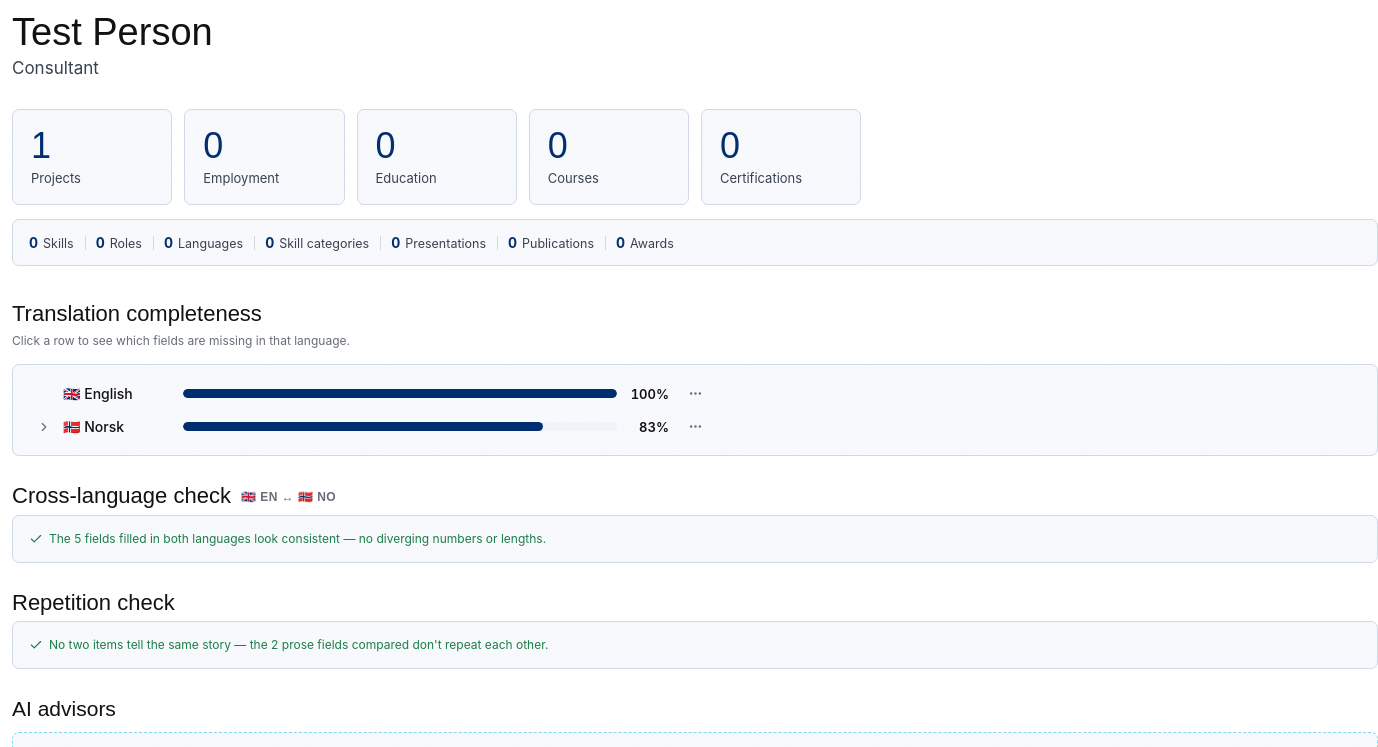
Test: <Overview> translation completeness drill-down › toggles closed on a second click
Click the button "🇳🇴 Norsk 83%". click: (353, 427)
box: [29,412,677,442]
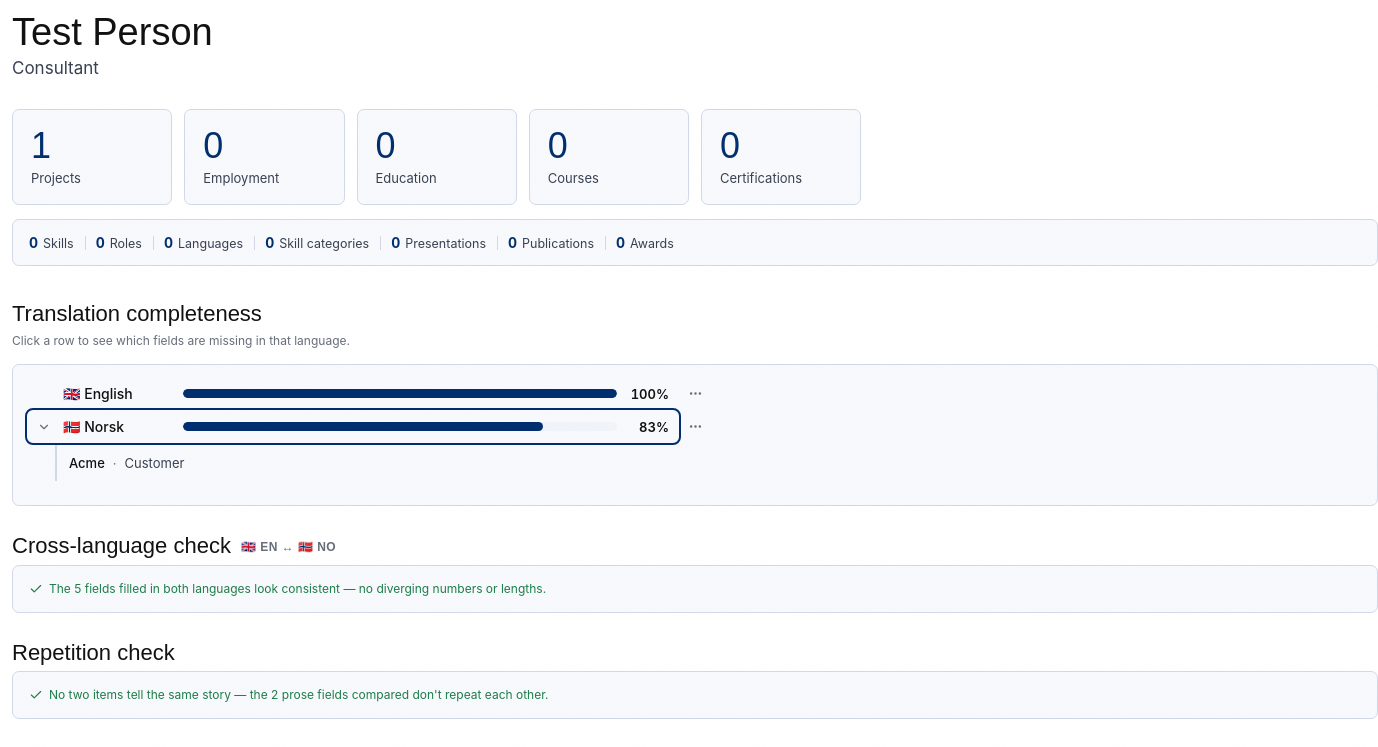
Check: the button "🇳🇴 Norsk 83%" is expanded
Click the button "🇳🇴 Norsk 83%". click: (353, 427)
box: [29,412,677,442]
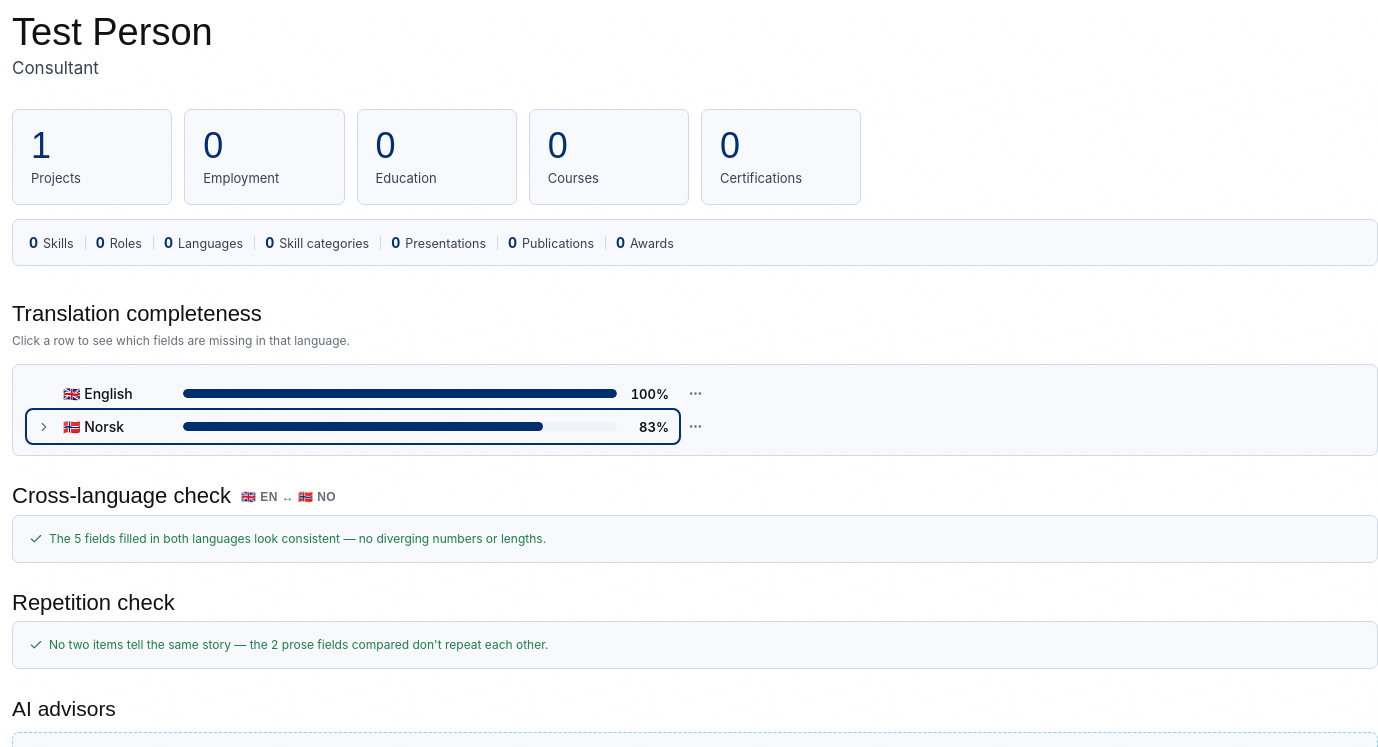
Check: the button "🇳🇴 Norsk 83%" is collapsed, box [29,412,677,442]
